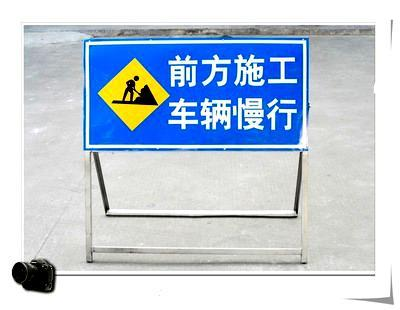sign: (85, 41, 304, 149)
